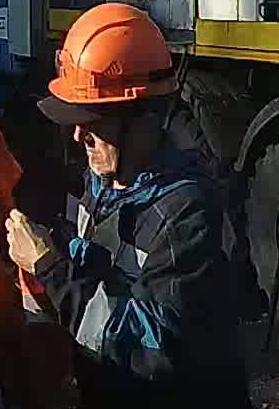helmet: (47, 2, 180, 105)
vest: (37, 168, 215, 374)
